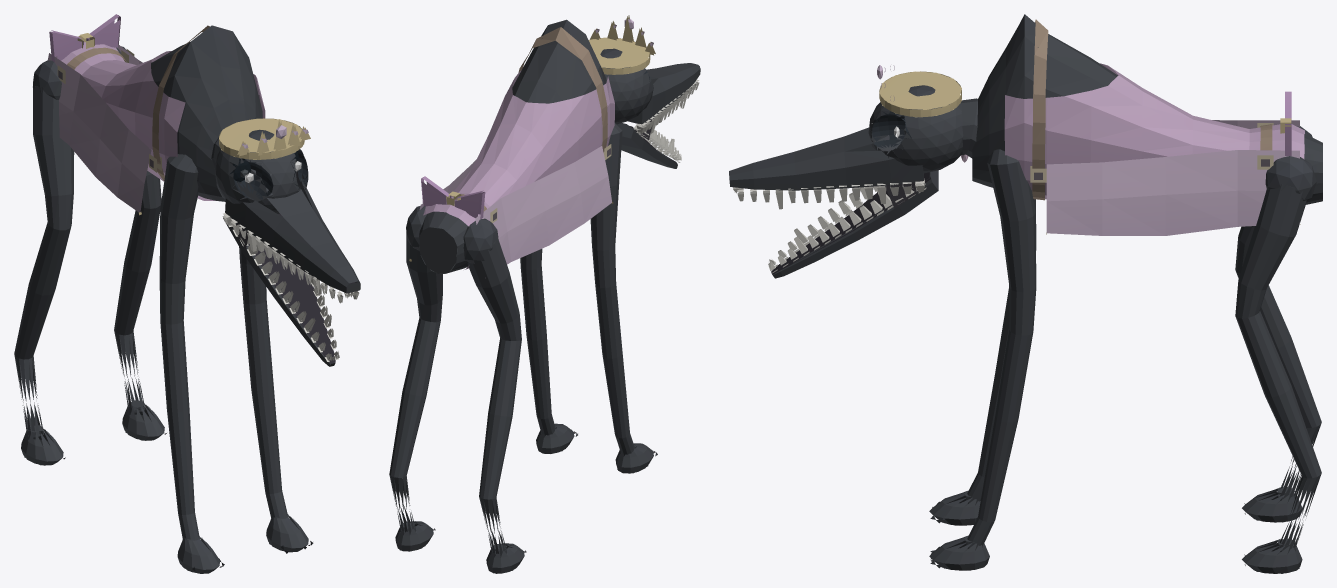
The model's file is LongmawPrincess.glb.
3 views of the same model, side by side, from view 1: azimuth 30°, elevation 25°; view 2: azimuth 150°, elevation 25°; view 3: azimuth 270°, elevation 25° (orthographic). The views are drawn at different scales.
Parts seen in each view (by area): view 1: Body, Head, ArmR, LegR, ArmL, LegL; view 2: Body, LegR, Head, LegL, ArmR, ArmL; view 3: Body, Head, LegL, ArmL, LegR, ArmR.
Boxes of the visible parts, left/top/right/bottom form: Body: left=47, top=14, right=265, bottom=215; Head: left=211, top=118, right=360, bottom=366; ArmR: left=159, top=154, right=224, bottom=573; LegR: left=14, top=60, right=74, bottom=465; ArmL: left=239, top=247, right=313, bottom=553; LegL: left=114, top=46, right=166, bottom=440; Body: left=409, top=19, right=614, bottom=273; LegR: left=463, top=218, right=526, bottom=573; Head: left=588, top=15, right=700, bottom=168; LegL: left=389, top=206, right=442, bottom=551; ArmR: left=590, top=123, right=657, bottom=473; ArmL: left=520, top=249, right=577, bottom=453; Body: left=961, top=14, right=1322, bottom=235; Head: left=729, top=65, right=977, bottom=278; LegL: left=1235, top=156, right=1321, bottom=573; ArmL: left=929, top=149, right=1036, bottom=570; LegR: left=1235, top=126, right=1321, bottom=522; ArmR: left=929, top=199, right=1036, bottom=525.
Size of the model in its own units: 1.9 by 6.89 by 7.03.
